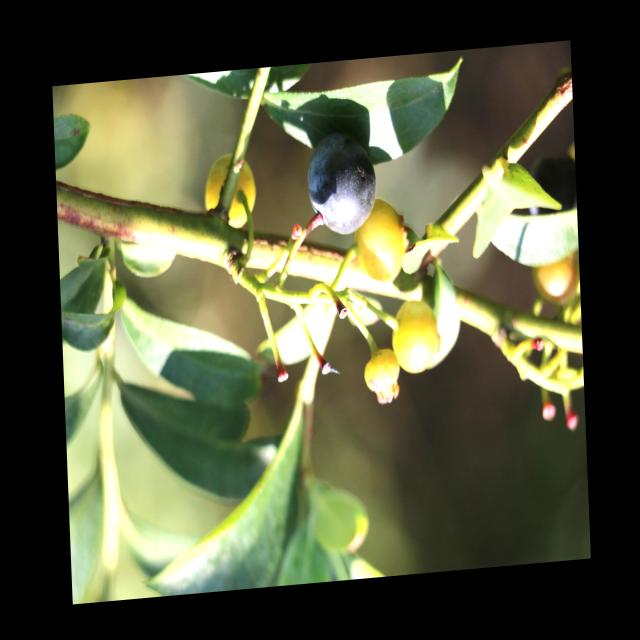blueberry: (300, 126, 378, 239)
blueberry-unripe: (353, 196, 407, 284), (201, 151, 258, 234), (390, 299, 442, 375), (528, 254, 576, 309), (360, 345, 402, 396)
